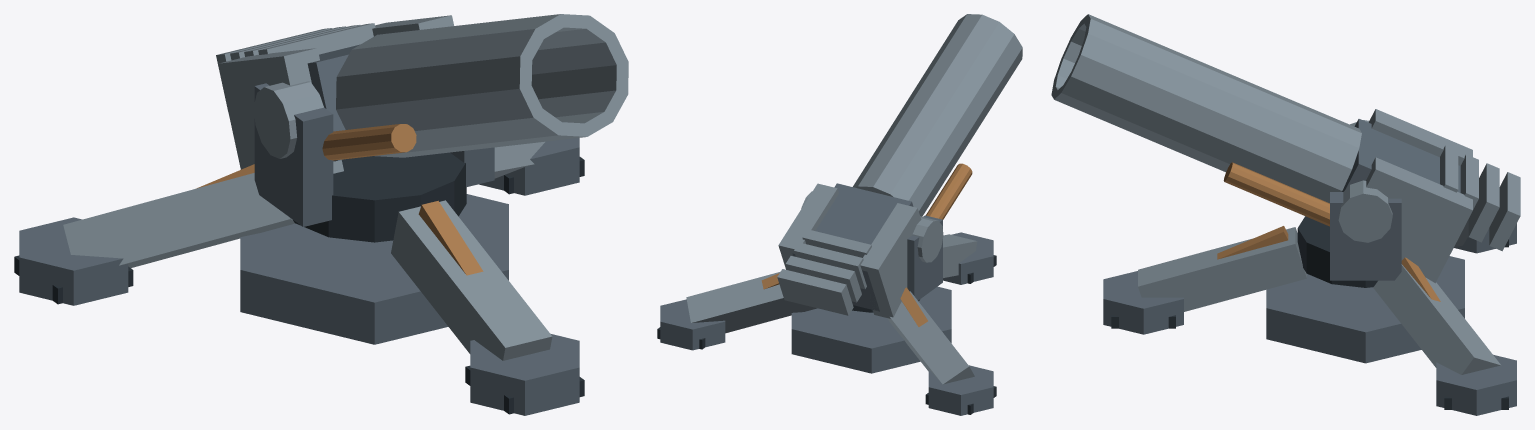
Rendered from howitzer_t3_d0.glb.
The picture shows the model from 3 angles, left to right: view 1: azimuth 30°, elevation 25°; view 2: azimuth 150°, elevation 25°; view 3: azimuth 270°, elevation 25°; orthographic projection. The views are drawn at different scales.
Visible parts, largest first — view 1: BASE_ARMOR_GEOMETRY, RECOIL_ARMOR_GEOMETRY, YAW_ARMOR_GEOMETRY; view 2: RECOIL_ARMOR_GEOMETRY, BASE_ARMOR_GEOMETRY, YAW_ARMOR_GEOMETRY; view 3: RECOIL_ARMOR_GEOMETRY, BASE_ARMOR_GEOMETRY, YAW_ARMOR_GEOMETRY.
Part boxes in pixels (<box>): BASE_ARMOR_GEOMETRY: <box>14,138,584,415</box>; RECOIL_ARMOR_GEOMETRY: <box>216,14,628,173</box>; YAW_ARMOR_GEOMETRY: <box>254,83,494,242</box>; RECOIL_ARMOR_GEOMETRY: <box>777,14,1022,318</box>; BASE_ARMOR_GEOMETRY: <box>657,232,996,415</box>; YAW_ARMOR_GEOMETRY: <box>852,215,942,312</box>; RECOIL_ARMOR_GEOMETRY: <box>1051,14,1520,283</box>; BASE_ARMOR_GEOMETRY: <box>1103,219,1516,415</box>; YAW_ARMOR_GEOMETRY: <box>1297,192,1401,287</box>.
Size of the model in its own units: 3.33 by 2.32 by 3.28.
